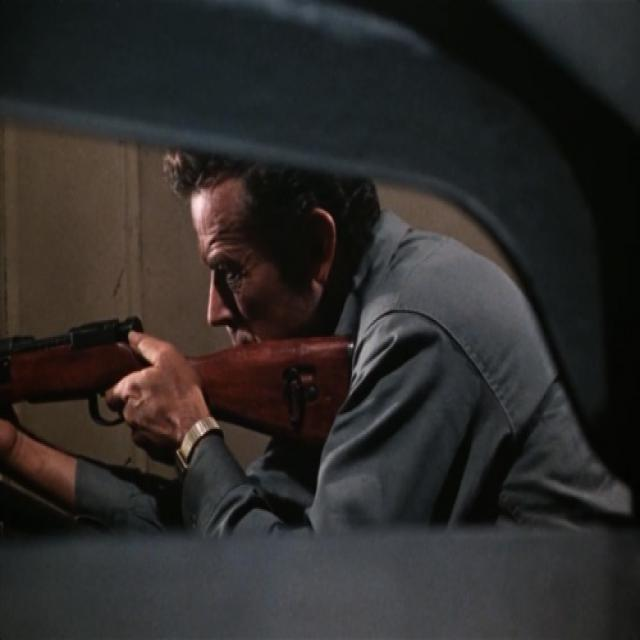rifle: (1, 319, 365, 456)
